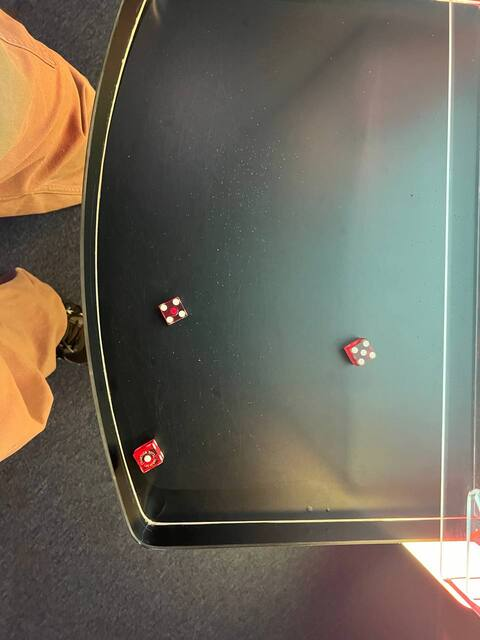five: (346, 336, 379, 368)
four: (156, 294, 189, 327)
one: (130, 440, 167, 473)
